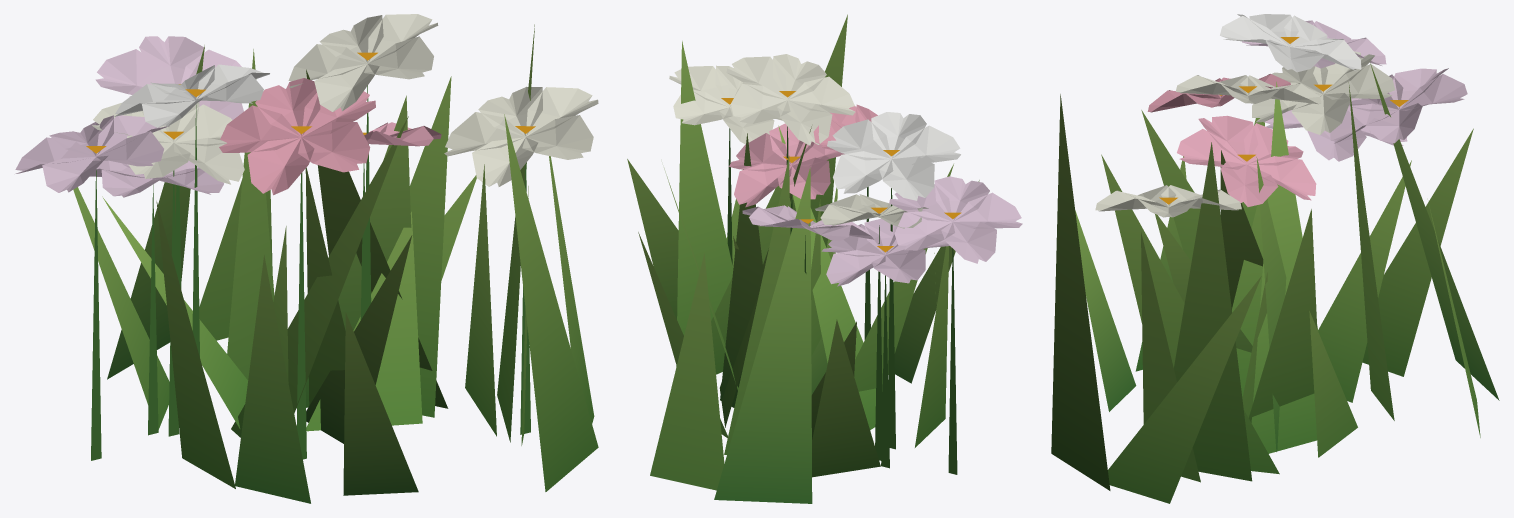
Rendered from SM_FlowerClump.fbx.
3 renders of one model, left to right at view 1: azimuth 30°, elevation 25°; view 2: azimuth 150°, elevation 25°; view 3: azimuth 270°, elevation 25°, orthographic. The views are drawn at different scales.
Visible parts, largest first — view 1: SM_FlowerClump; view 2: SM_FlowerClump; view 3: SM_FlowerClump.
Boxes of the visible parts, left/top/right/bottom form: SM_FlowerClump: left=15, top=14, right=598, bottom=503; SM_FlowerClump: left=627, top=14, right=1022, bottom=503; SM_FlowerClump: left=1051, top=14, right=1499, bottom=503.
Bounding box in the file's own units: 18.1 × 14.17 × 16.15.
